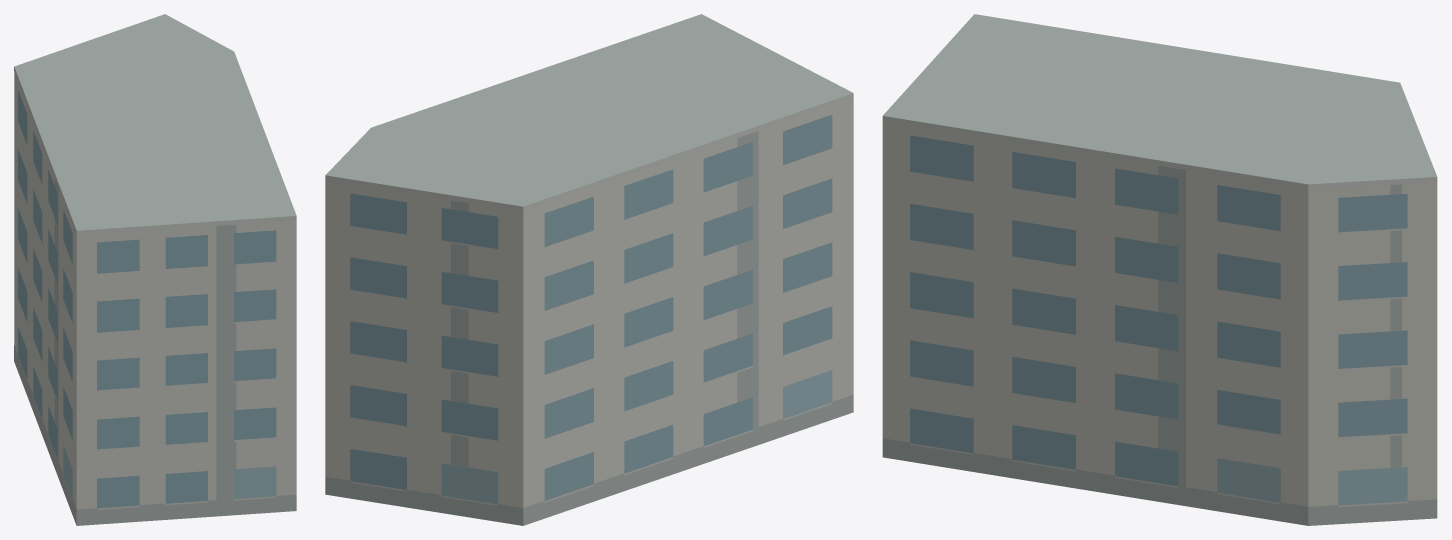
The model's file is residential-c36d1794-86ab-4502-93dd-9988820f0ea2.glb.
3 views of the same model, side by side, from view 1: azimuth 30°, elevation 25°; view 2: azimuth 150°, elevation 25°; view 3: azimuth 270°, elevation 25° (orthographic). The views are drawn at different scales.
Visible parts, largest first — view 1: residential-c36d1794-86ab-4502-93dd-9988820f0ea2.tmp; view 2: residential-c36d1794-86ab-4502-93dd-9988820f0ea2.tmp; view 3: residential-c36d1794-86ab-4502-93dd-9988820f0ea2.tmp.
Boxes of the visible parts, x1,y1,x2,y2 form: residential-c36d1794-86ab-4502-93dd-9988820f0ea2.tmp: (14, 14, 296, 525); residential-c36d1794-86ab-4502-93dd-9988820f0ea2.tmp: (325, 14, 853, 525); residential-c36d1794-86ab-4502-93dd-9988820f0ea2.tmp: (882, 14, 1437, 525).
Size of the model in its own units: 16.33 by 15.25 by 22.46.
